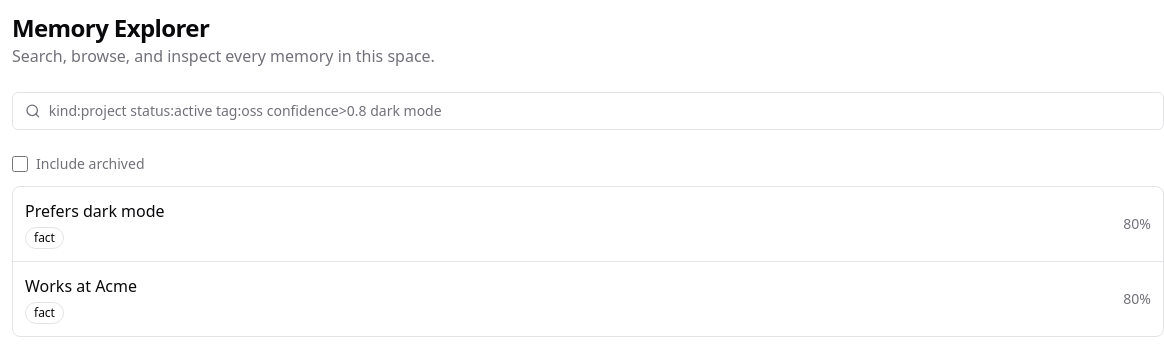
search runs the query language against /search, not a client-side filter
The width and height of the screenshot is (1164, 354).
Type "dark mode" into the search field with placeholder "kind:project status:active tag:oss confidence>0.8 dark mode" at [600, 111], box [49, 101, 1151, 121]
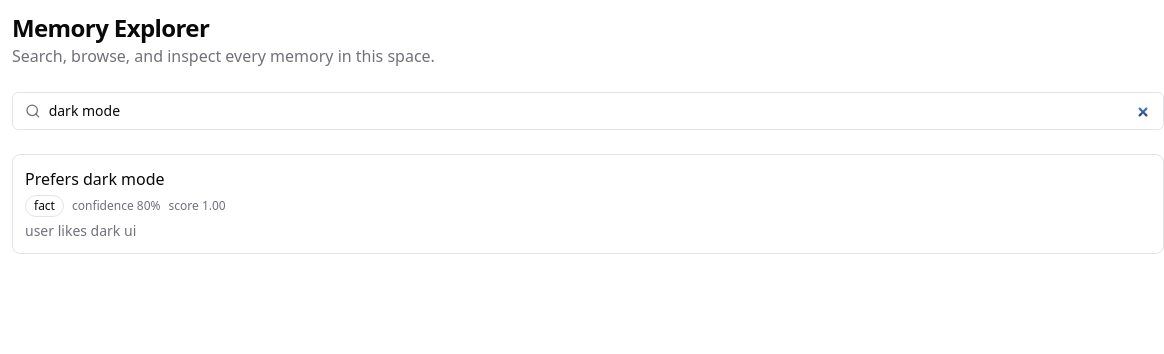
Expected: the link "Prefers dark mode" is shown, [25, 168, 165, 190]
Expected: the link "Works at Acme" is gone
